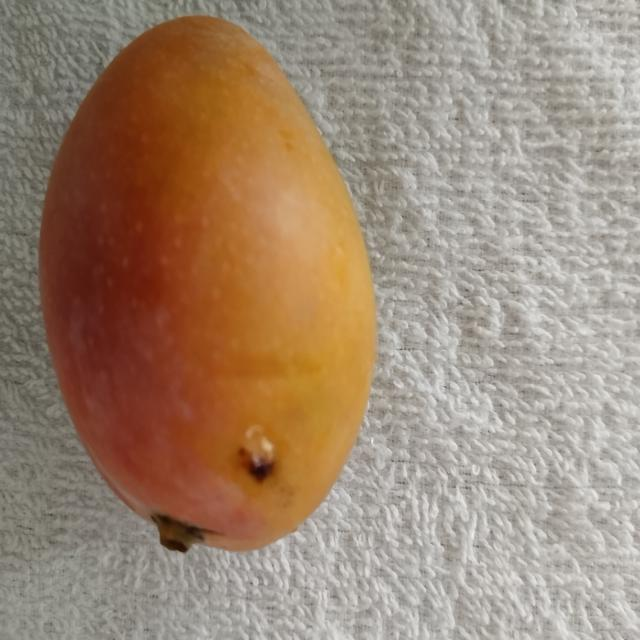mango: (40, 17, 375, 550)
